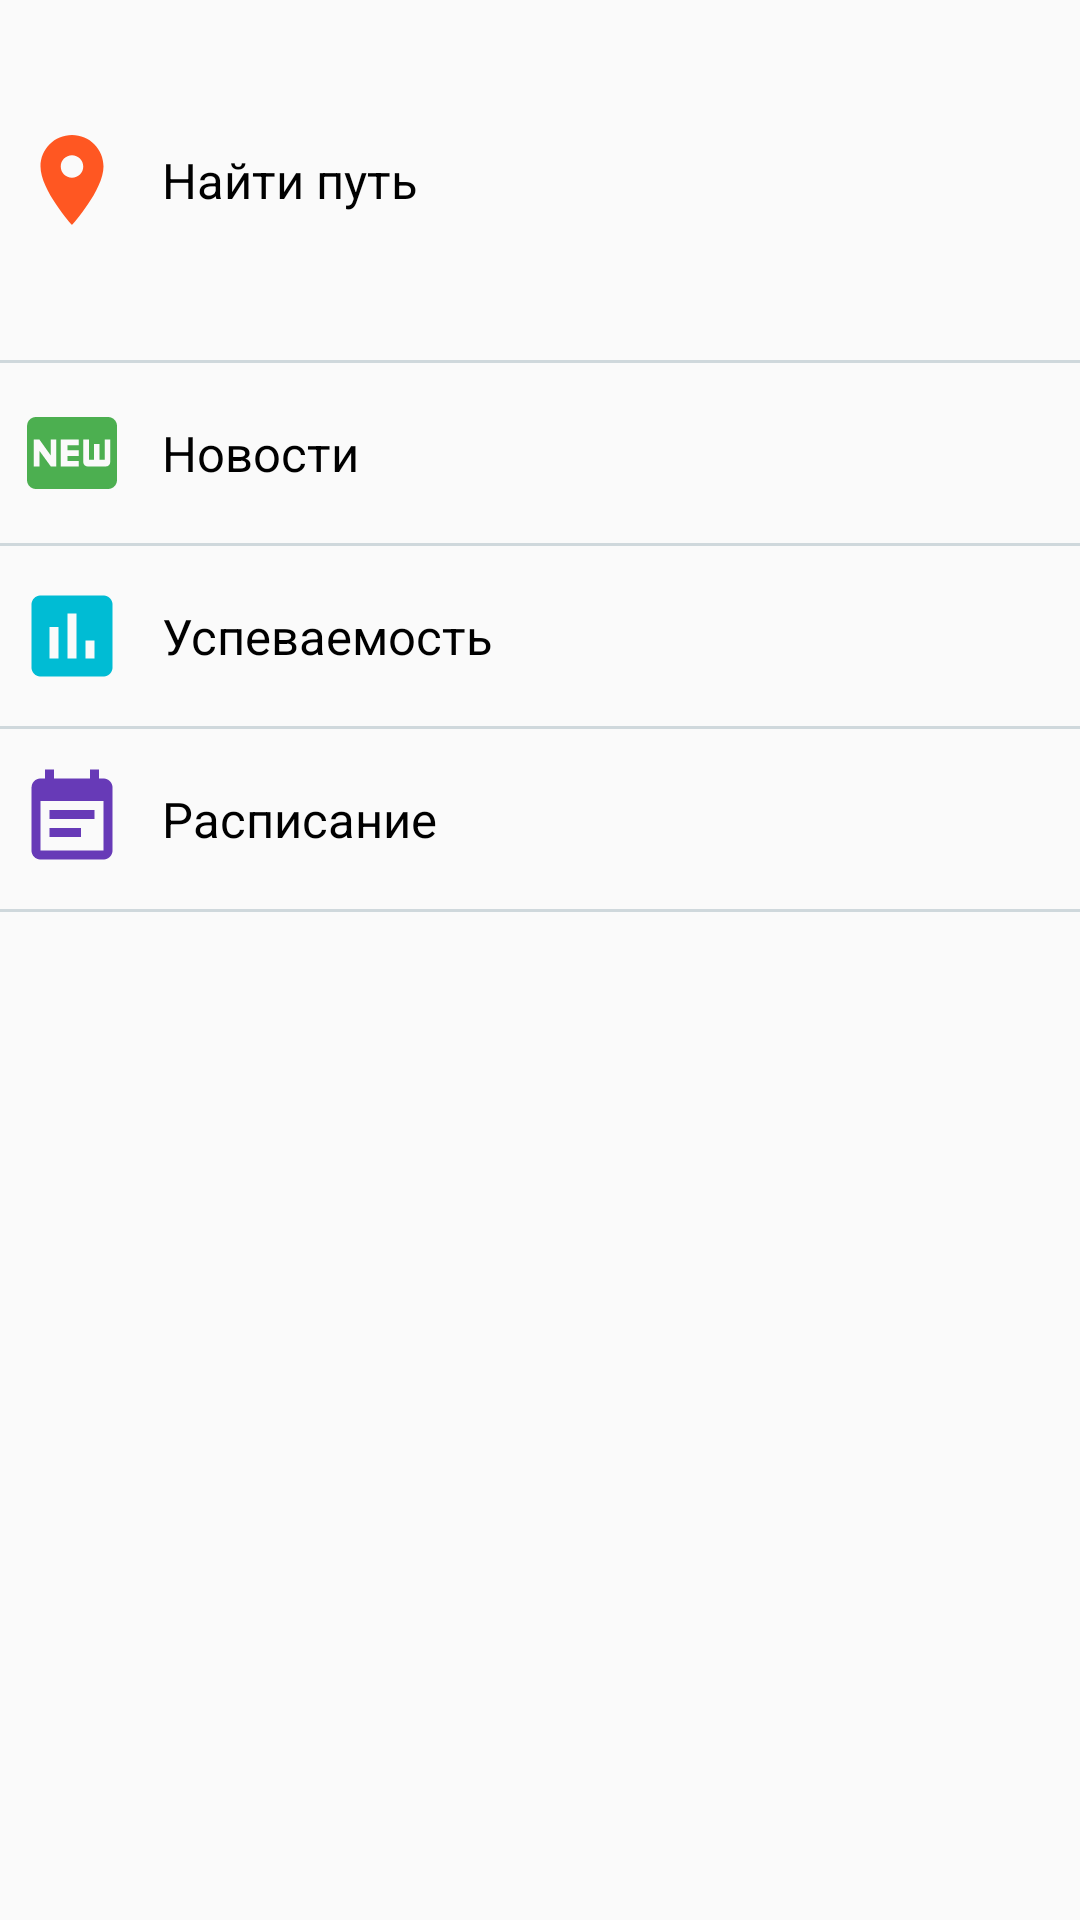

Point at icon controls on the screen. Image size 1080px×1920px, points as point (x, y).
event note zzz: point (72, 814)
insert chart: point (72, 636)
place: point (72, 180)
